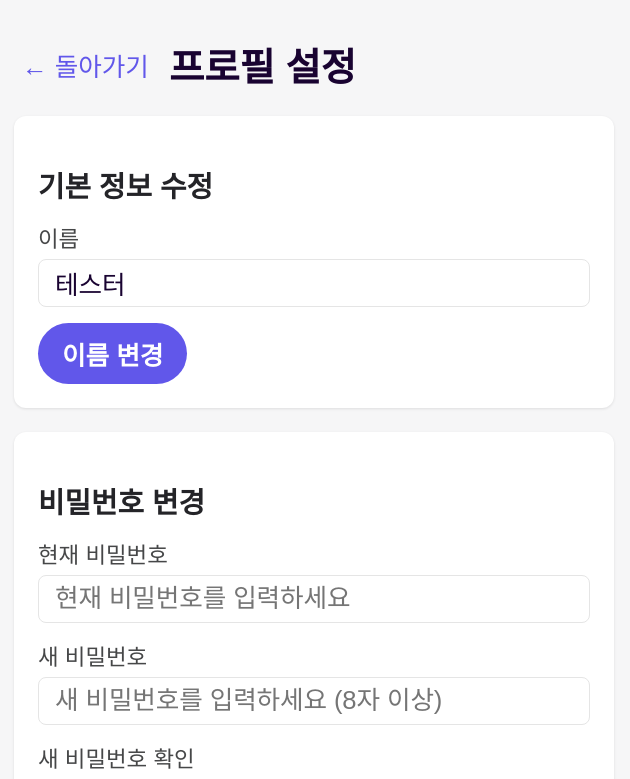
ProfileEditForm › 비밀번호 변경 섹션 › 새 비밀번호가 8자 미만이면 에러를 표시한다
Type "oldpassword" into the password field labelled "현재 비밀번호".
click(314, 599); type("oldpassword")  # box [38,575,590,623]
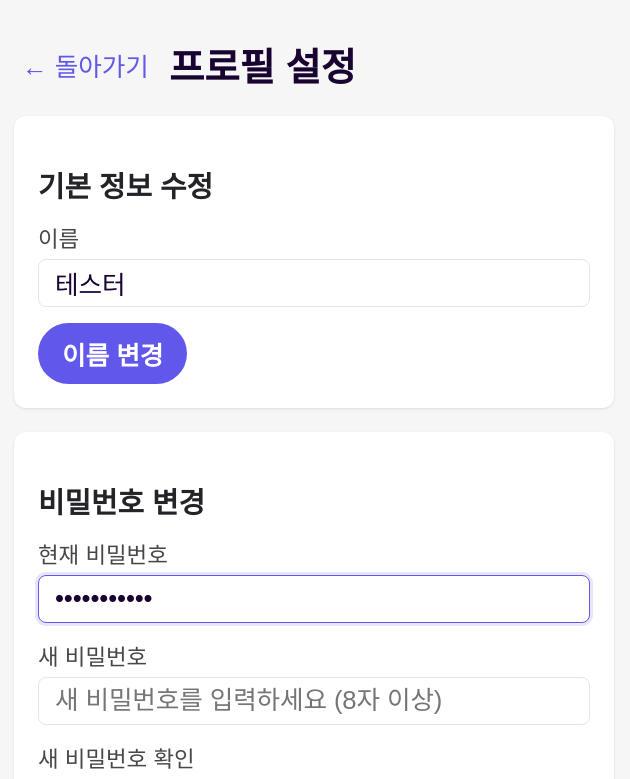
Type "short" into the password field labelled "새 비밀번호".
click(314, 701); type("short")  # box [38,677,590,725]
(page scrolled)
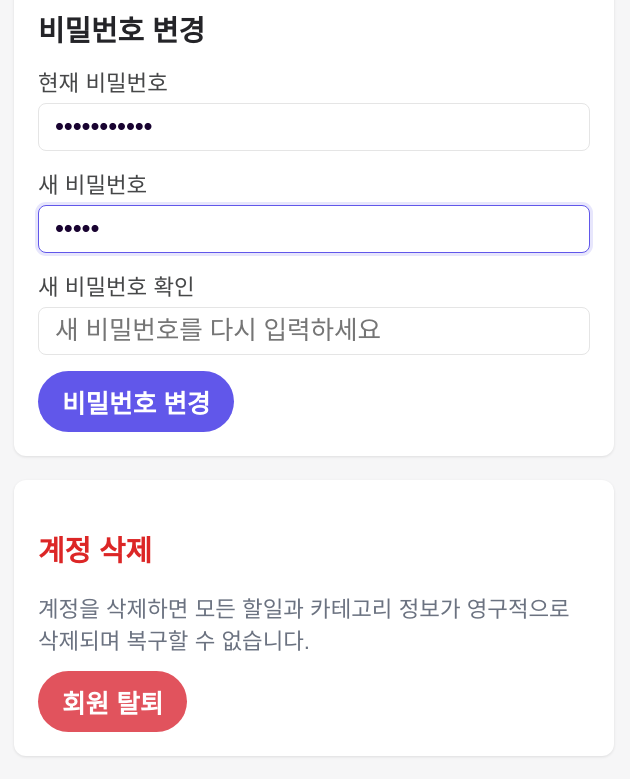
Click the button "비밀번호 변경".
click(136, 401)  # box [38,371,234,432]
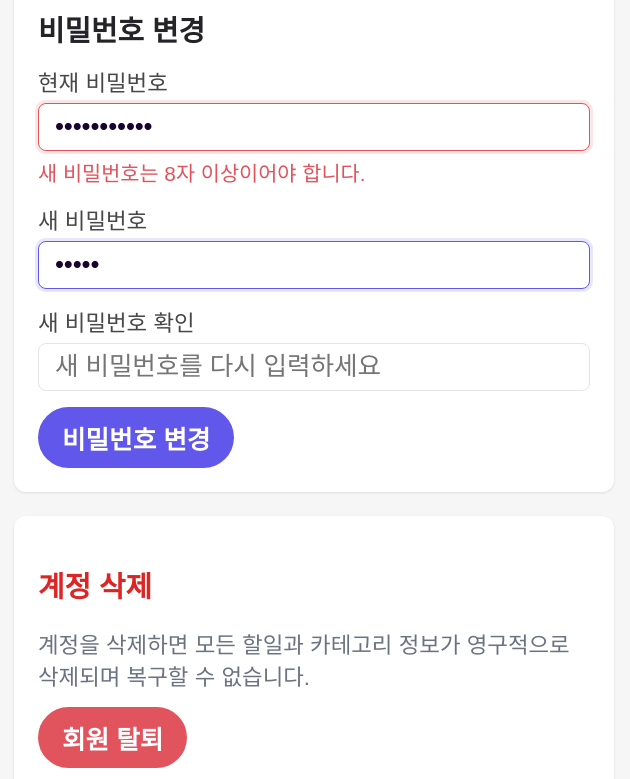
expect the text "새 비밀번호는 8자 이상이어야 합니다." is shown: met, box [38,162,366,185]
